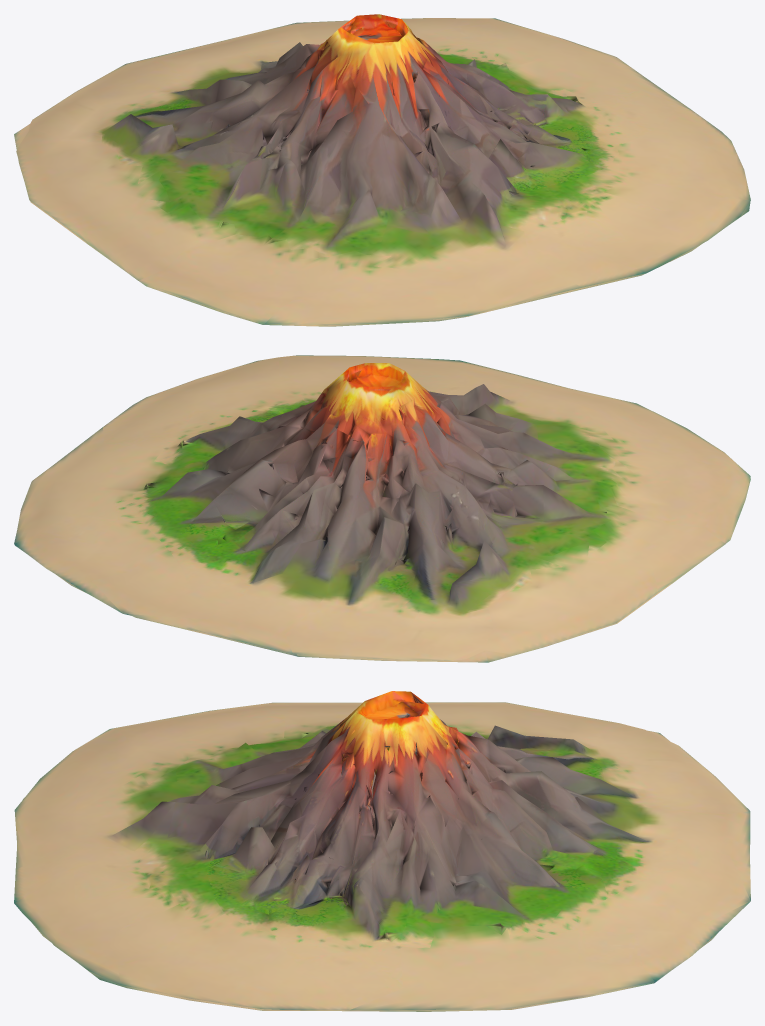
Rendered from Volcano.glb.
3 renders of one model, top to bottom at view 1: azimuth 30°, elevation 25°; view 2: azimuth 150°, elevation 25°; view 3: azimuth 270°, elevation 25°, orthographic. The views are drawn at different scales.
Parts seen in each view (by area): view 1: Mesh_0; view 2: Mesh_0; view 3: Mesh_0.
Part boxes in pixels (x1,y1,x2,y2): Mesh_0: [14, 14, 750, 326]; Mesh_0: [14, 355, 750, 662]; Mesh_0: [14, 691, 750, 1011].
Size of the model in its own units: 1.79 by 0.4145 by 1.81.
Materials: 1 (1 with a texture image).
